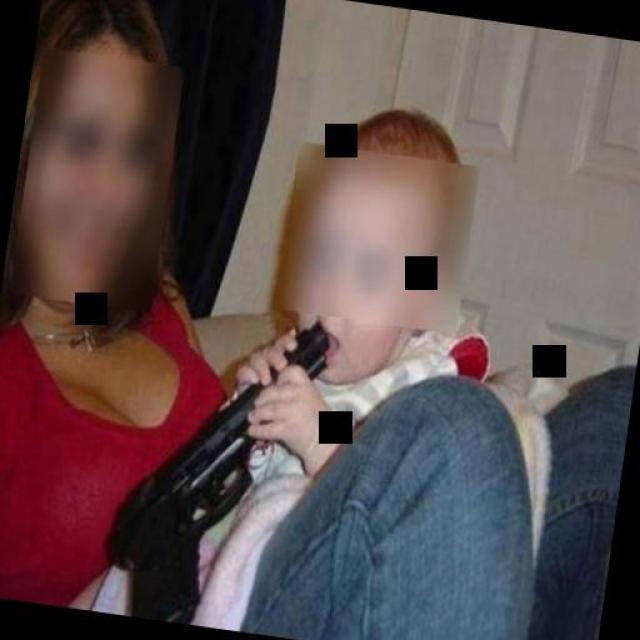gun: (93, 292, 335, 638)
